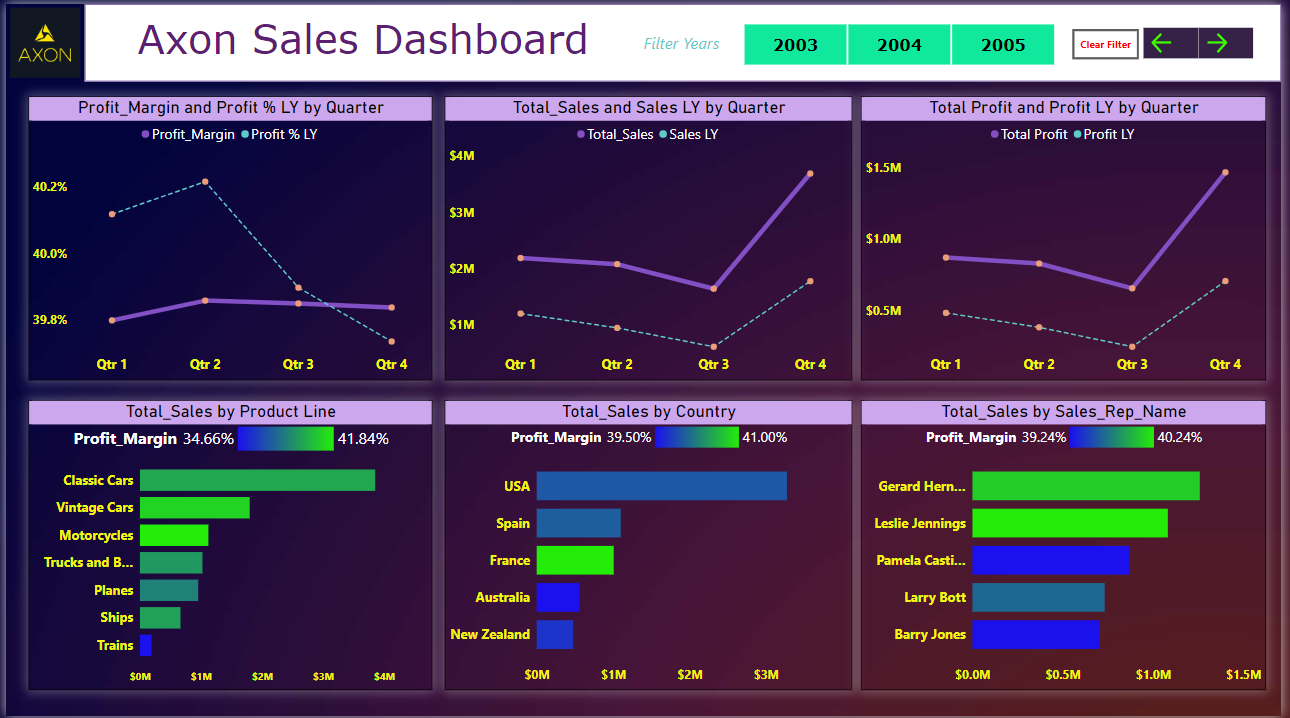

The page's visual inventory and layout, read from the dashboard file:
{"tool":"powerbi","page":{"name":"Profit Analysis (CY Vs. LY)","canvas":[1700,950],"ordinal":6},"visuals":[{"type":"shape","box":[104.8,0,1595.2,103.2],"z":0},{"type":"textbox","box":[114.5,8.1,722.6,79],"z":1000},{"type":"slicer","title":"Year","fields":{"Values":["DATES.Date.Variation.Date Hierarchy.Year"]},"box":[958,19.5,463.6,68.1],"z":2000},{"type":"actionButton","box":[1590.1,32.4,72.9,40.5],"z":3000},{"type":"actionButton","box":[1421.5,34,89.1,40.5],"z":4000},{"type":"textbox","box":[837,31.8,127.3,44.6],"z":5000},{"type":"actionButton","box":[1517.2,32.4,72.9,40.5],"z":6000},{"type":"image","box":[0,0,105,103.4],"z":7000},{"type":"lineChart","fields":{"Category":["DATES.Date.Variation.Date Hierarchy.Quarter"],"Y":["Base_Measures.Profit_Margin","Time Intelligence Calc.Profit % LY"]},"box":[30,123.3,538.3,378.3],"z":8000},{"type":"lineChart","fields":{"Category":["DATES.Date.Variation.Date Hierarchy.Quarter"],"Y":["Base_Measures.Total_Sales","Time Intelligence Calc.Sales LY"]},"box":[585,123.3,543.3,378.3],"z":9000},{"type":"lineChart","fields":{"Category":["DATES.Date.Variation.Date Hierarchy.Quarter"],"Y":["Base_Measures.Total Profit","Time Intelligence Calc.Profit LY"]},"box":[1140,123.3,540,378.3],"z":10000},{"type":"clusteredBarChart","fields":{"Y":["Base_Measures.Total_Sales"],"Category":["classicmodels productlines.Product Line"]},"box":[30,528.3,538.3,343.3],"z":11000},{"type":"clusteredBarChart","fields":{"Y":["Base_Measures.Total_Sales"],"Category":["classicmodels customers.Country"]},"box":[585,528.3,543.3,343.3],"z":12000},{"type":"clusteredBarChart","fields":{"Y":["Base_Measures.Total_Sales"],"Category":["classicmodels customers.Sales_Rep_Name"]},"box":[1140,528.3,540,343.3],"z":13000}]}

Visuals, with their boxes in screenshot pixels (x1, y1, x2, y2), scaled from the page's 1700x950 canvas onto the 1290x718 screenshot:
shape: 80,0,1289,78
textbox: 87,6,635,66
"Year" slicer: 727,15,1079,66
actionButton: 1207,24,1262,55
actionButton: 1079,26,1146,56
textbox: 635,24,732,58
actionButton: 1151,24,1207,55
image: 0,0,80,78
lineChart - DATES.Date.Variation.Date Hierarchy.Quarter x Base_Measures.Profit_Margin: 23,93,431,379
lineChart - DATES.Date.Variation.Date Hierarchy.Quarter x Base_Measures.Total_Sales: 444,93,856,379
lineChart - DATES.Date.Variation.Date Hierarchy.Quarter x Base_Measures.Total Profit: 865,93,1275,379
clusteredBarChart - Base_Measures.Total_Sales x classicmodels productlines.Product Line: 23,399,431,659
clusteredBarChart - Base_Measures.Total_Sales x classicmodels customers.Country: 444,399,856,659
clusteredBarChart - Base_Measures.Total_Sales x classicmodels customers.Sales_Rep_Name: 865,399,1275,659
